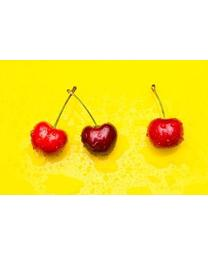cherry: (80, 122, 118, 157), (32, 121, 67, 156), (147, 118, 185, 149)
